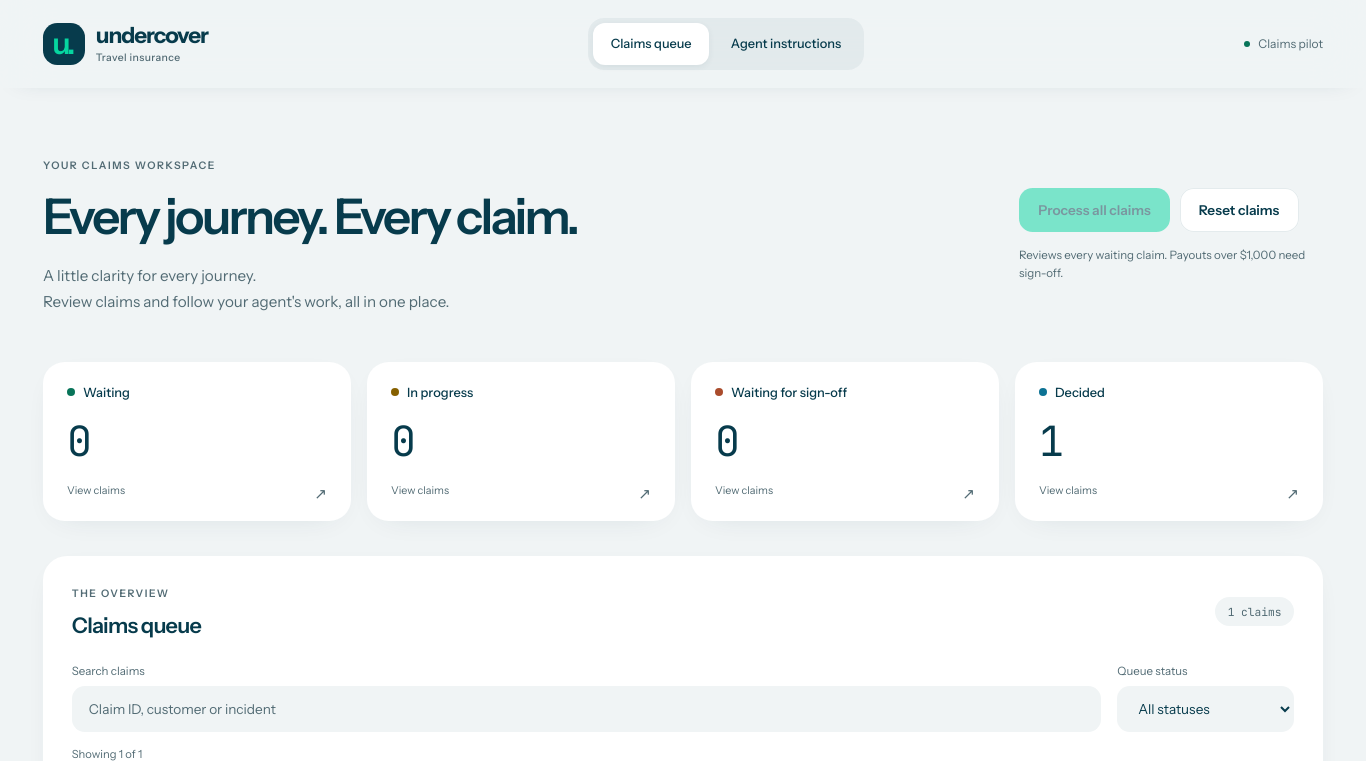
Test case: resets after confirmation and refreshes the queue
The width and height of the screenshot is (1366, 761).
Click the button "Reset claims" at (1239, 210), box [1180,188,1299,232]
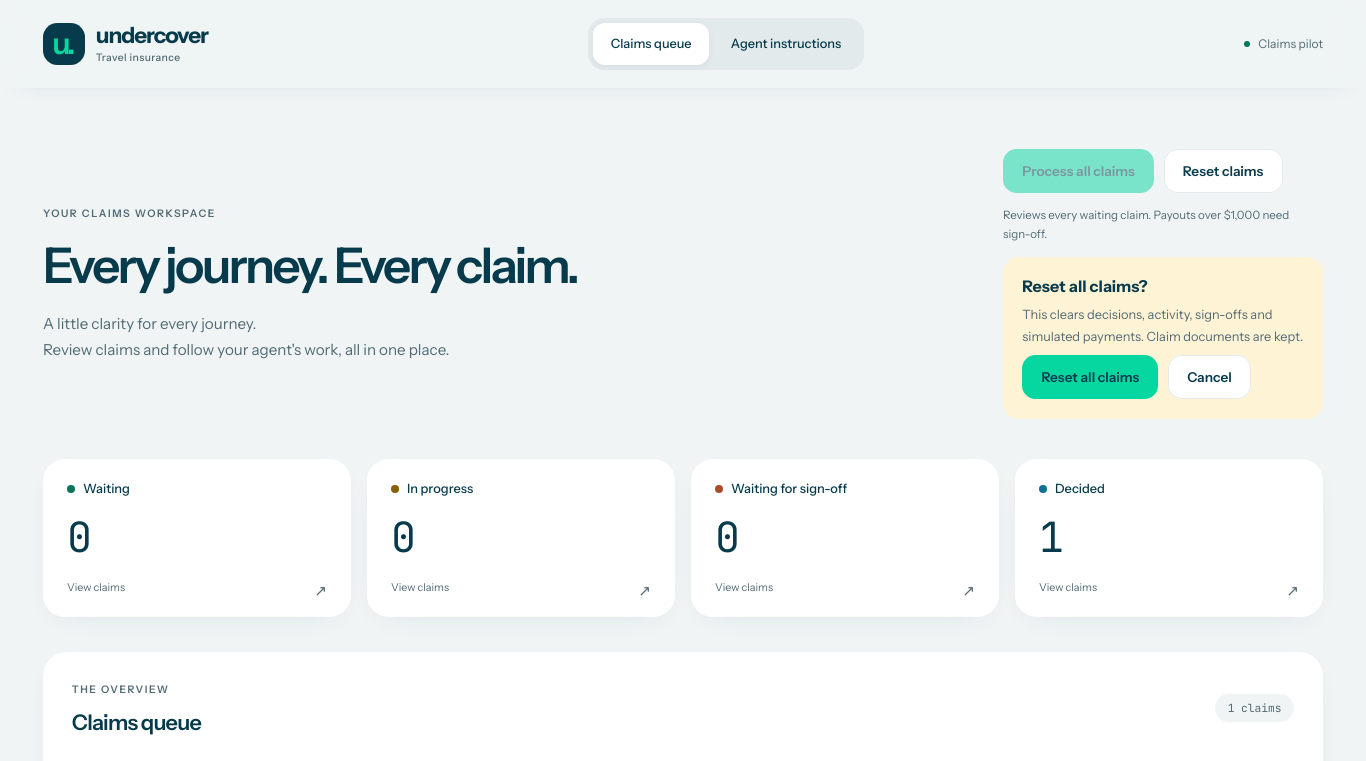
Click the button "Reset all claims" at (1090, 378), box [1022,356,1158,400]
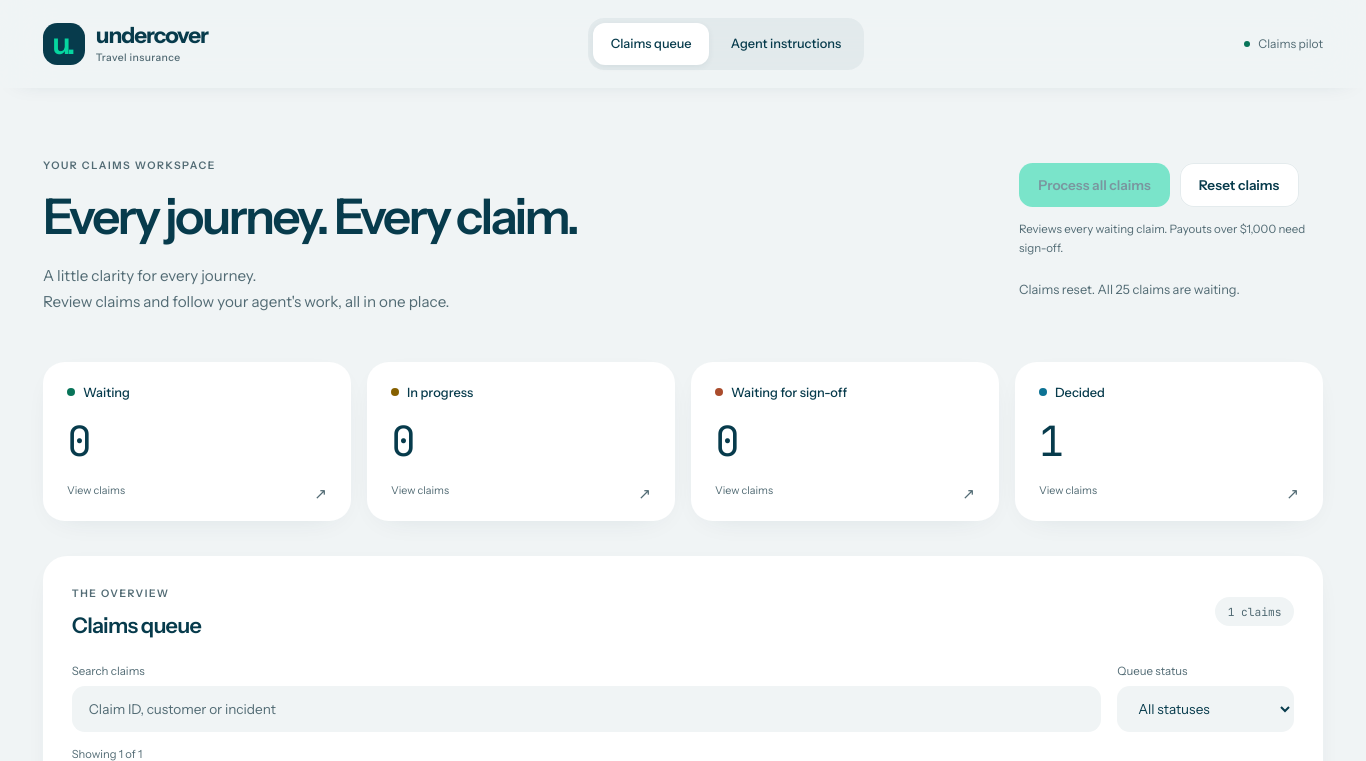
expect the text "Claims reset. All 25 claims are waiting." is shown: met, box [1019,279,1240,300]
